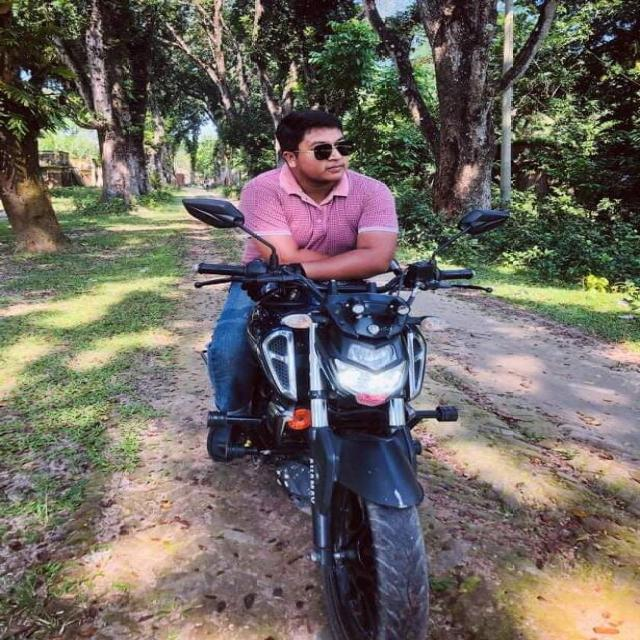Not Wearing Helmet: (185, 0, 405, 253)
